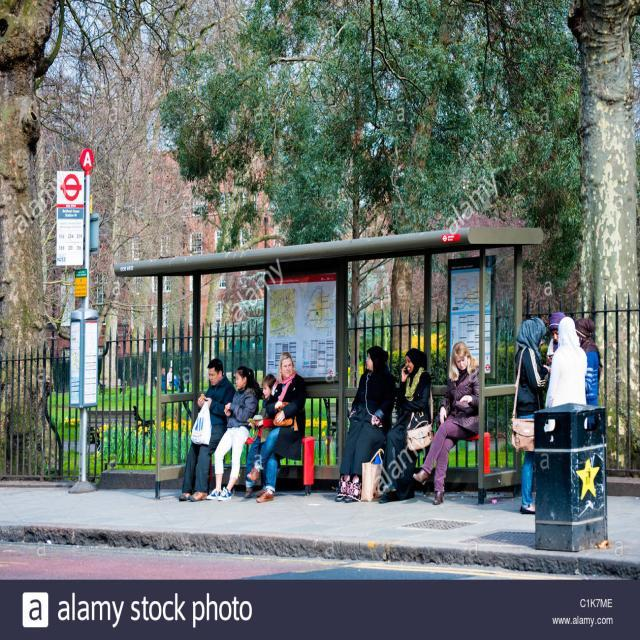bareface: (454, 354, 470, 372), (281, 360, 293, 379), (234, 372, 246, 390), (208, 369, 220, 386), (364, 352, 374, 372), (405, 355, 415, 375), (262, 384, 270, 399)
